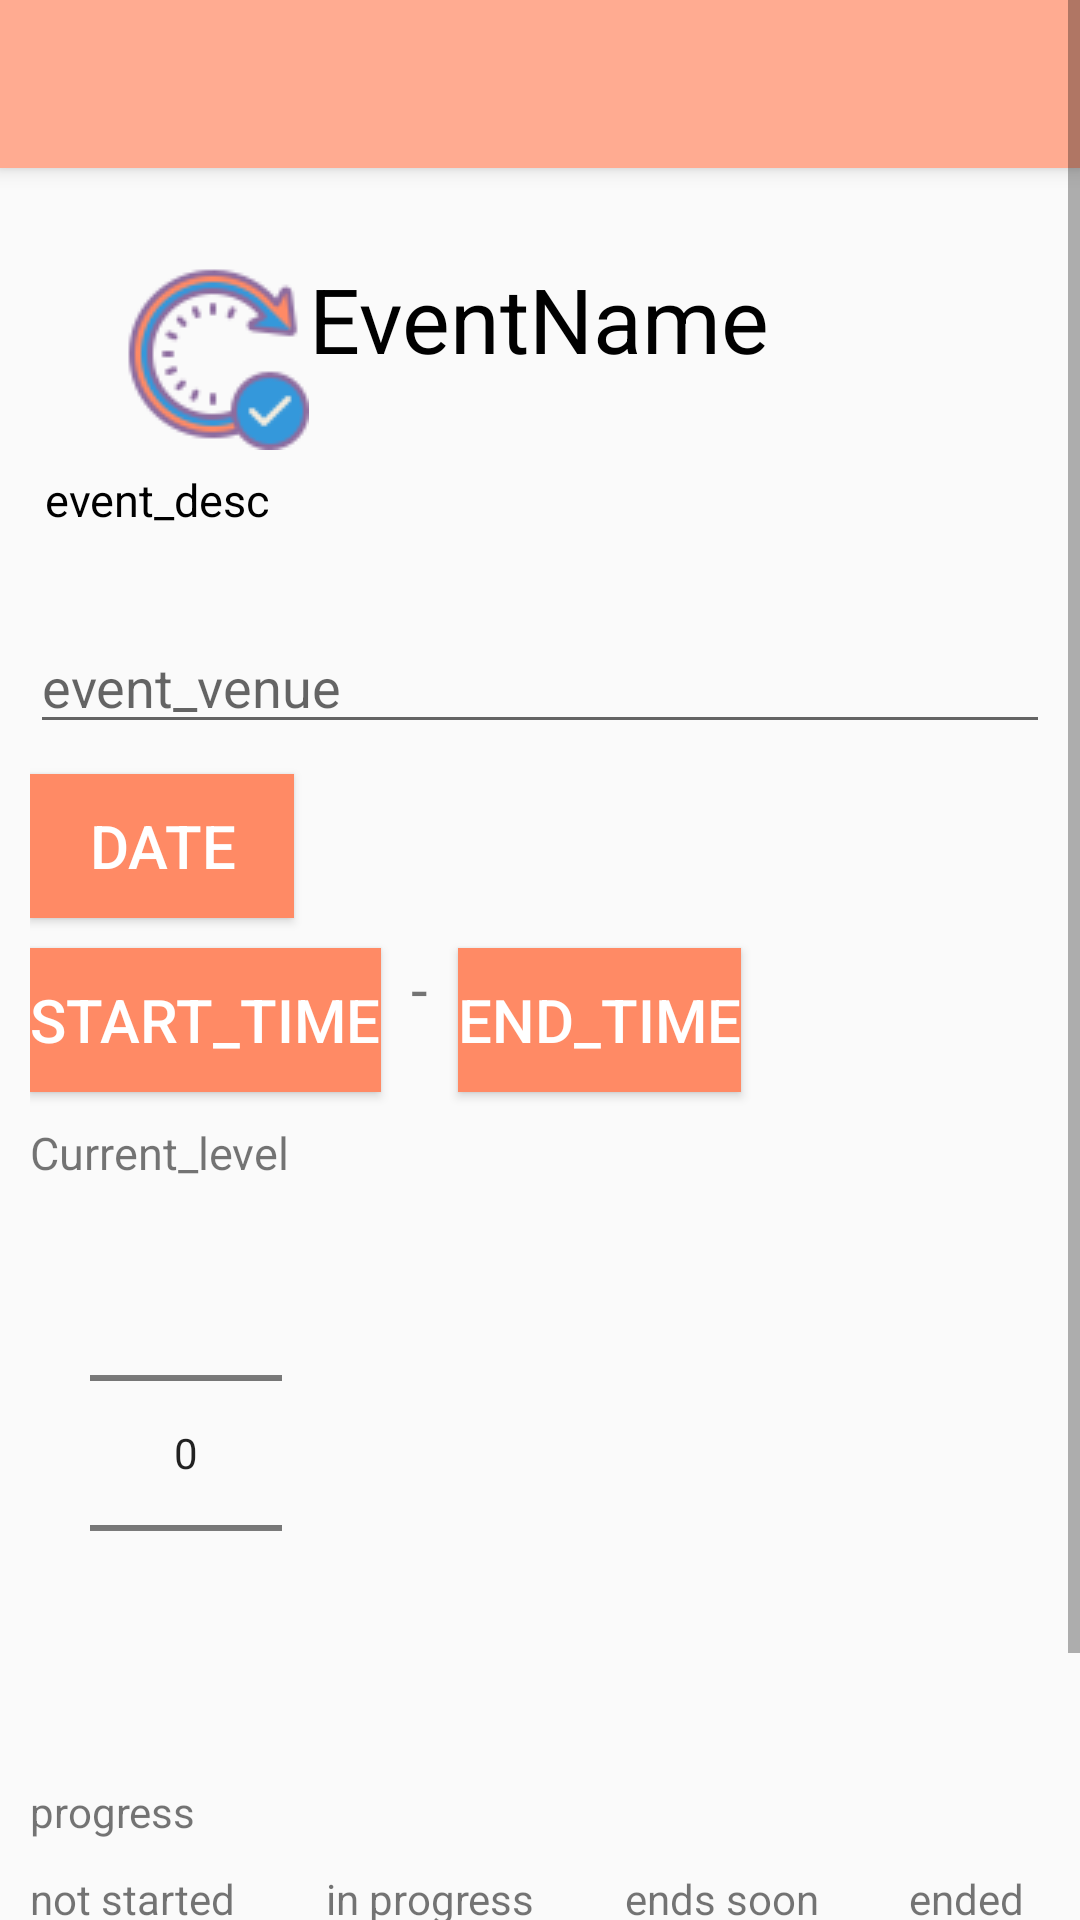

Screen size 1080×1920. Icon name, then its box in pixels as box(x1, y1, x2, y2):
update: box(128, 269, 309, 450)
